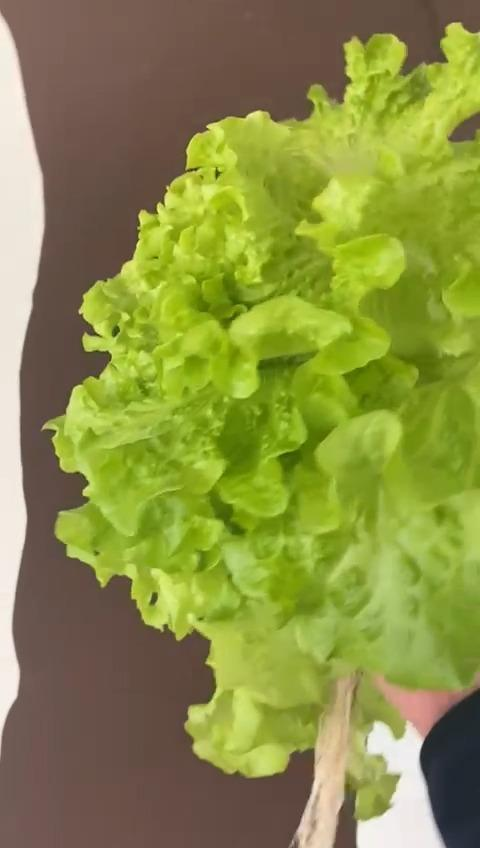Healthy: (37, 22, 480, 817)
